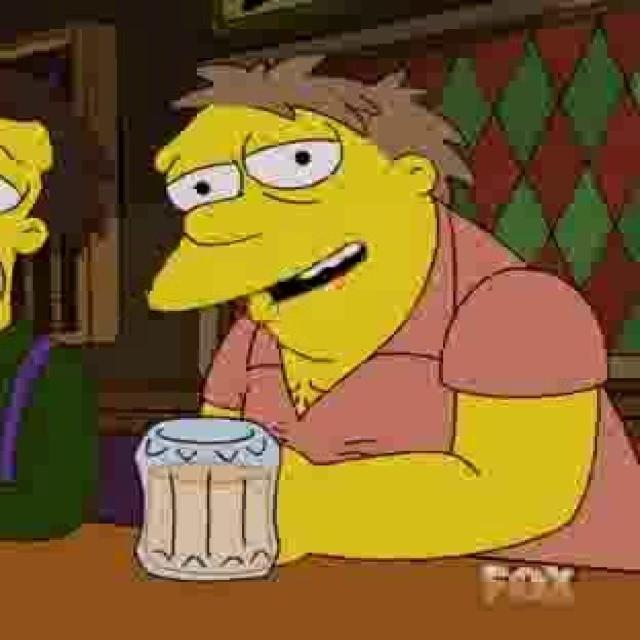Barney Gumble: (141, 50, 478, 372)
